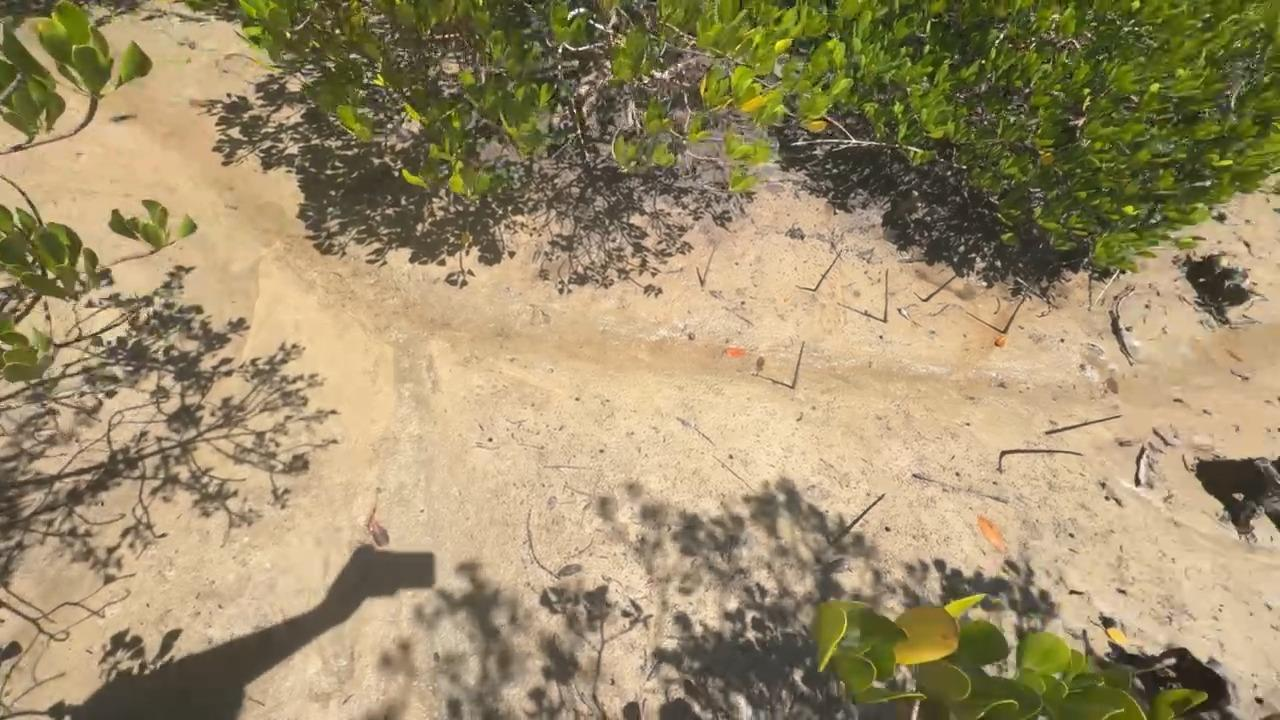Tree: (829, 492, 885, 548), (1045, 415, 1123, 436), (1090, 269, 1121, 310), (814, 249, 843, 292), (922, 275, 957, 302), (1002, 297, 1026, 334), (792, 340, 806, 389), (1000, 449, 1084, 456), (702, 248, 716, 286), (883, 268, 889, 323)
